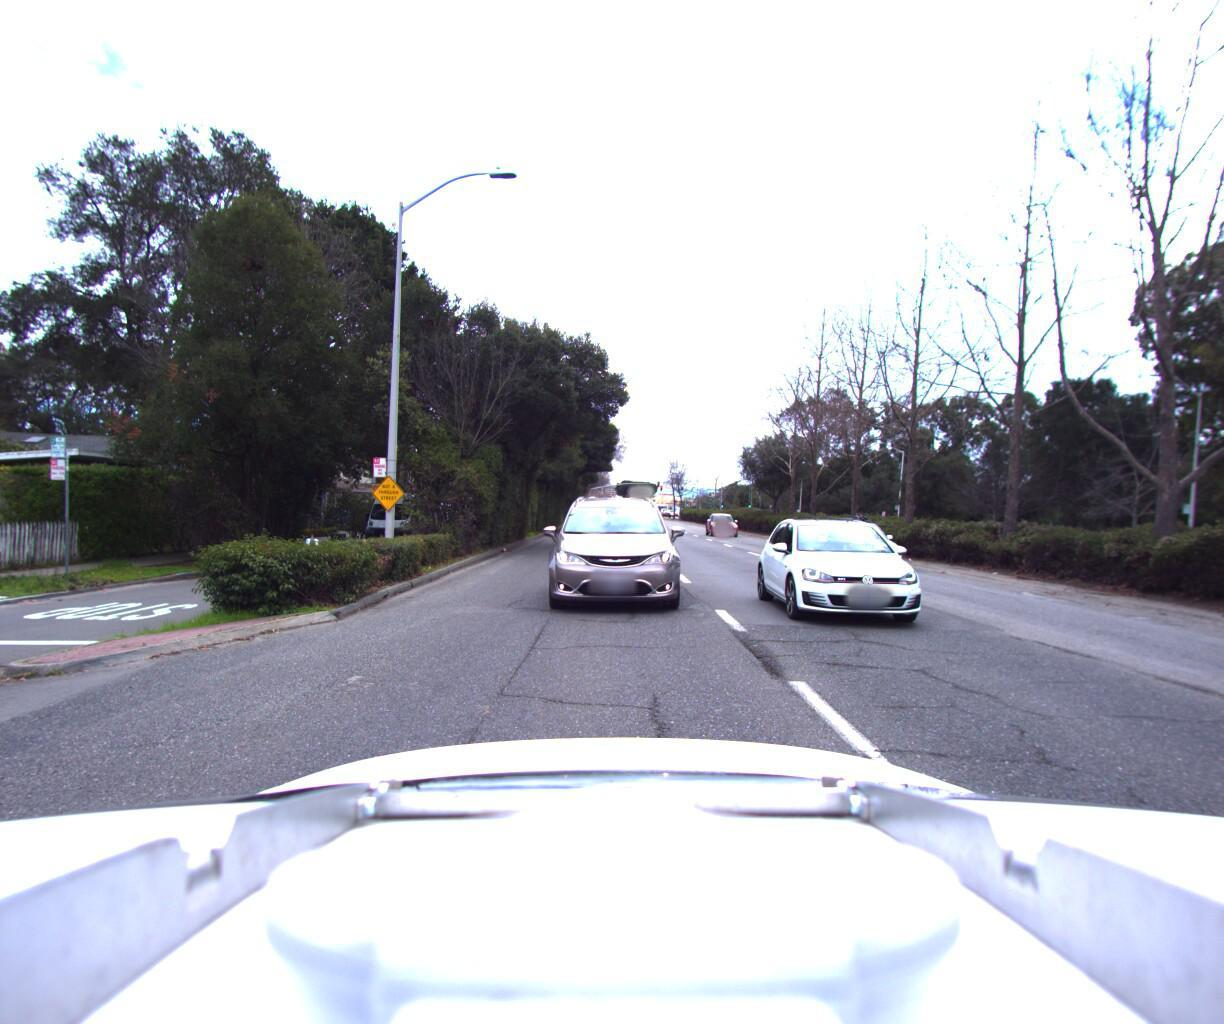car: (759, 503, 993, 652), (541, 486, 680, 621), (820, 506, 939, 576), (706, 510, 741, 536)
other_vehicle: (359, 490, 433, 550)
